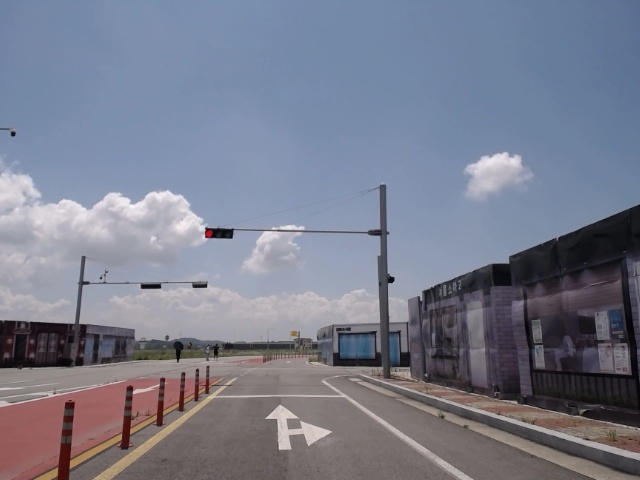red_3: (203, 227, 235, 239)
